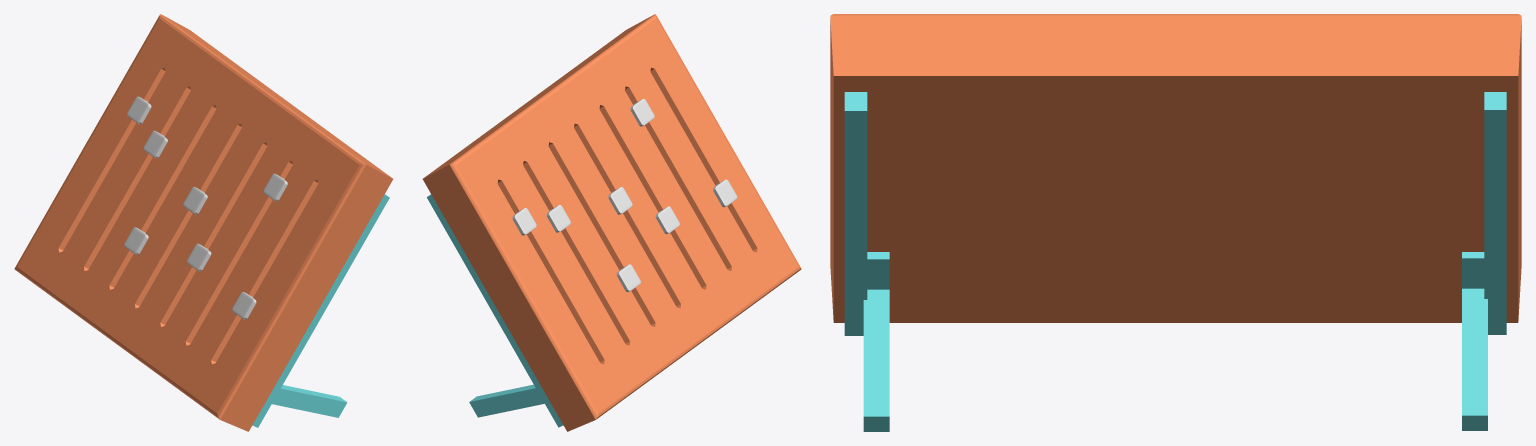
File: SM_RH_MixTable.fbx
3 views of the same model, side by side, from view 1: azimuth 30°, elevation 25°; view 2: azimuth 150°, elevation 25°; view 3: azimuth 270°, elevation 25° (orthographic). The views are drawn at different scales.
Visible parts, largest first — view 1: Cube.006; view 2: Cube.006; view 3: Cube.006.
Boxes of the visible parts, x1,y1,x2,y2 form: Cube.006: (14,14,393,431); Cube.006: (422,14,801,431); Cube.006: (830,14,1521,431).
Bounding box in the file's own units: 54.59 × 76.39 × 111.
